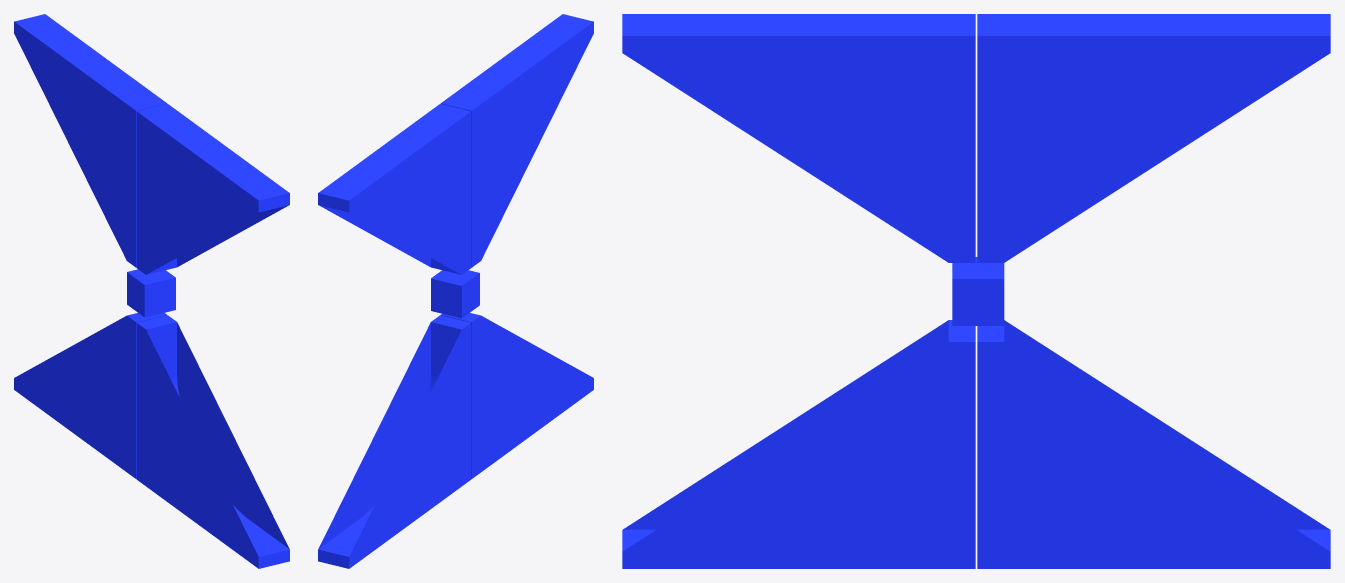
Rendered from squeeze_theorem.fbx.
3 views of the same model, side by side, from view 1: azimuth 30°, elevation 25°; view 2: azimuth 150°, elevation 25°; view 3: azimuth 270°, elevation 25° (orthographic). The views are drawn at different scales.
Parts seen in each view (by area): view 1: Cube.Left.Bottom, Cube.Left.Top, Cube.Right.Top, Cube.Right.Bottom, Cube; view 2: Cube.Right.Bottom, Cube.Right.Top, Cube.Left.Top, Cube.Left.Bottom, Cube; view 3: Cube.Left.Top, Cube.Right.Top, Cube.Left.Bottom, Cube.Right.Bottom, Cube.
Part boxes in pixels (x1,y1,x2,y2): Cube.Left.Bottom: [136, 315, 289, 568]; Cube.Left.Top: [136, 104, 289, 274]; Cube.Right.Top: [14, 14, 167, 267]; Cube.Right.Bottom: [14, 313, 166, 478]; Cube: [127, 269, 175, 317]; Cube.Right.Bottom: [318, 315, 471, 568]; Cube.Right.Top: [318, 104, 471, 274]; Cube.Left.Top: [440, 14, 593, 267]; Cube.Left.Bottom: [441, 313, 593, 478]; Cube: [431, 270, 479, 318]; Cube.Left.Top: [622, 14, 975, 262]; Cube.Right.Top: [977, 14, 1330, 262]; Cube.Left.Bottom: [622, 320, 975, 568]; Cube.Right.Bottom: [977, 320, 1330, 568]; Cube: [952, 257, 1004, 325].
Bounding box in the file's own units: 5 × 56.68 × 68.24.
